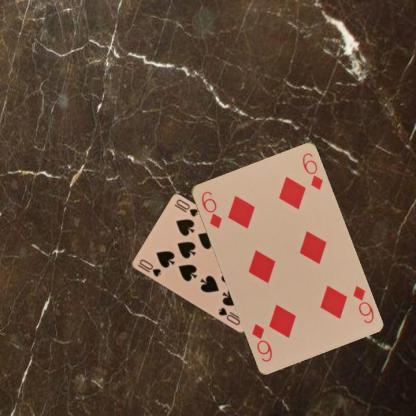10s: (134, 256, 162, 278)
6d: (350, 282, 376, 324), (198, 188, 223, 230)
